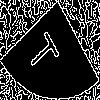T: (25, 24, 66, 78)
